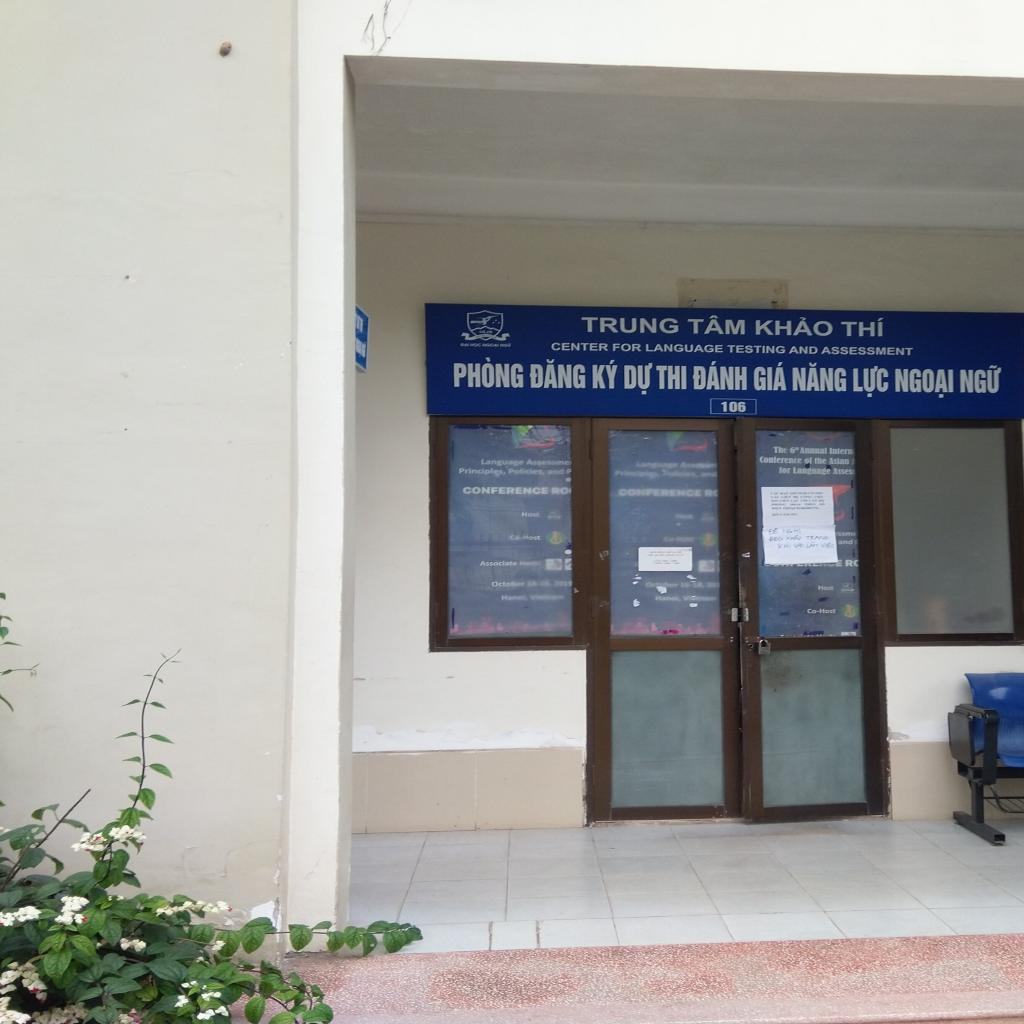text: (451, 358, 526, 390), (894, 368, 956, 400), (789, 361, 849, 393), (528, 358, 587, 390), (579, 316, 681, 334), (752, 315, 834, 337), (691, 360, 748, 391), (958, 364, 1004, 395), (851, 366, 891, 400), (686, 316, 746, 336), (751, 360, 788, 392), (820, 346, 915, 357), (589, 358, 621, 390), (622, 362, 653, 395), (461, 485, 550, 496), (839, 318, 888, 337), (644, 343, 726, 354), (654, 365, 688, 391), (616, 488, 703, 498), (550, 341, 610, 353), (726, 344, 787, 355), (758, 455, 803, 465), (457, 467, 507, 476), (478, 458, 526, 467), (525, 458, 570, 467), (611, 342, 644, 353), (792, 467, 832, 476), (507, 467, 547, 476), (720, 401, 747, 413), (788, 345, 820, 355), (798, 446, 828, 456), (477, 560, 519, 567), (506, 534, 544, 541), (828, 446, 854, 456), (490, 581, 526, 588), (653, 594, 683, 602), (805, 608, 838, 615), (827, 457, 852, 466), (499, 594, 530, 601), (526, 580, 553, 588), (832, 467, 854, 476), (780, 527, 804, 535), (551, 486, 570, 496), (680, 582, 706, 589), (804, 535, 832, 541), (816, 584, 836, 592), (546, 468, 566, 476), (553, 580, 574, 587), (786, 534, 804, 542), (844, 559, 860, 568), (772, 446, 789, 454), (521, 511, 540, 518), (518, 560, 540, 566), (768, 535, 784, 543), (776, 542, 792, 550), (804, 541, 820, 549), (819, 542, 837, 549), (777, 467, 792, 475), (767, 527, 780, 536), (813, 457, 827, 465), (838, 531, 854, 538), (837, 539, 854, 545), (802, 456, 813, 465), (792, 542, 806, 549), (482, 343, 500, 348), (704, 489, 714, 498), (499, 342, 513, 348), (798, 495, 814, 500), (470, 342, 482, 348), (789, 446, 798, 454), (460, 342, 470, 348), (566, 468, 573, 476), (779, 491, 790, 496), (780, 495, 792, 499), (770, 492, 780, 496), (814, 495, 824, 499), (792, 495, 800, 499), (770, 496, 780, 499)
